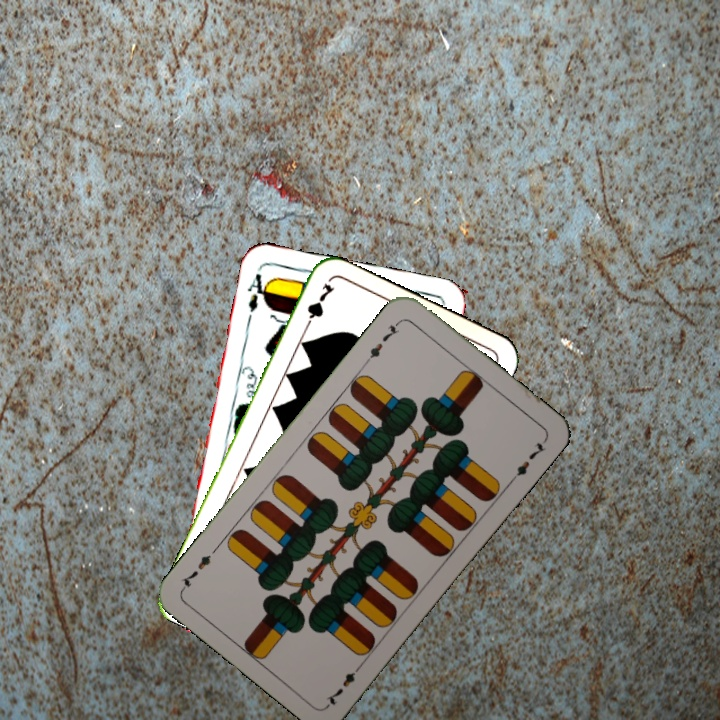E7: (321, 659, 366, 709), (361, 316, 403, 365)
EA: (243, 269, 272, 315)
G7: (299, 279, 337, 335)
